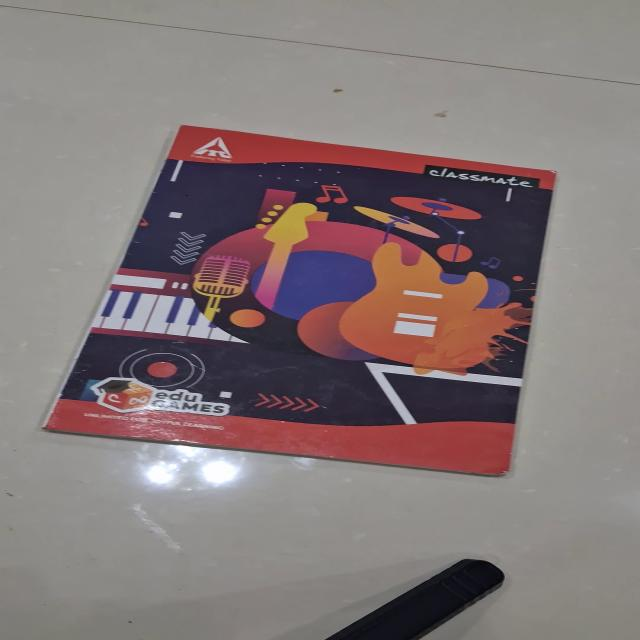paper: (40, 124, 558, 477)
